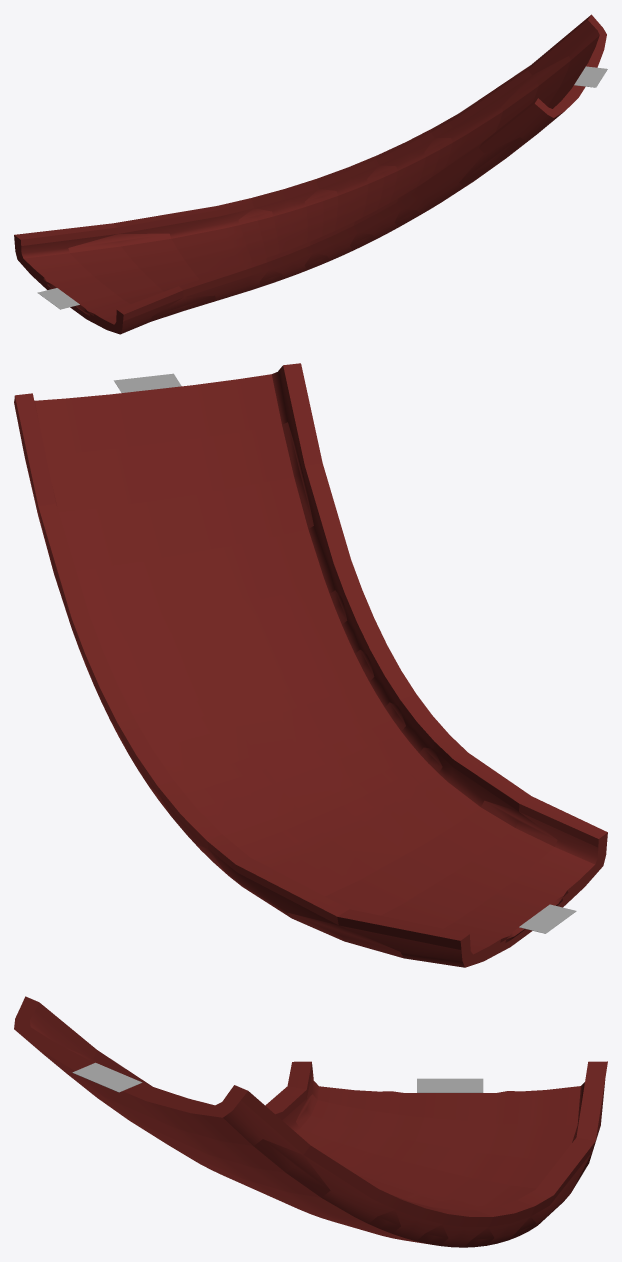
Rendered from FlatConnector45UpRight.fbx.
3 views of the same model, one above another, from view 1: azimuth 30°, elevation 25°; view 2: azimuth 150°, elevation 25°; view 3: azimuth 270°, elevation 25° (orthographic). The views are drawn at different scales.
Visible parts, largest first — view 1: pPipe3, pasted__pCube3, pasted__pCube47; view 2: pPipe3, pasted__pCube3, pasted__pCube47; view 3: pPipe3, pasted__pCube3, pasted__pCube47.
Part boxes in pixels (x1,y1,x2,y2): pPipe3: [14, 14, 606, 334]; pasted__pCube3: [37, 288, 79, 309]; pasted__pCube47: [574, 66, 607, 87]; pPipe3: [14, 363, 607, 967]; pasted__pCube3: [519, 904, 576, 933]; pasted__pCube47: [114, 373, 181, 392]; pPipe3: [14, 996, 607, 1247]; pasted__pCube3: [417, 1078, 483, 1092]; pasted__pCube47: [72, 1062, 142, 1092].
Bounding box in the file's own units: 24.18 × 11.29 × 17.94.
